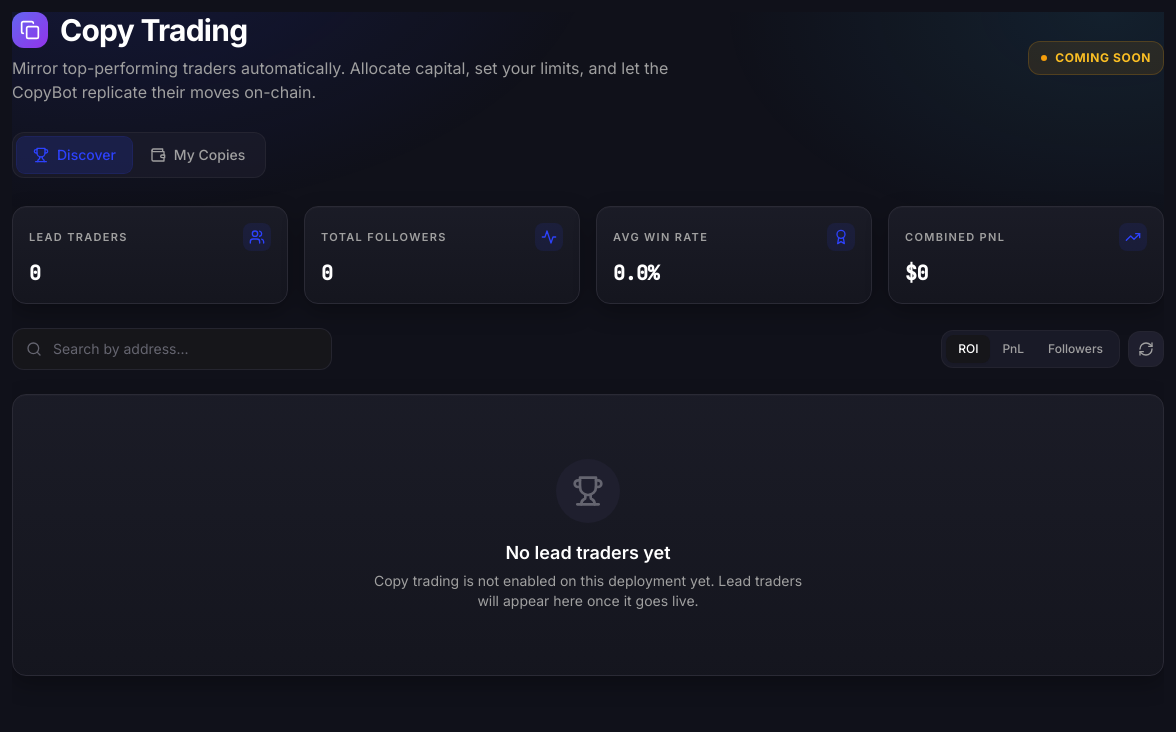
Scenario: CopyTradingPage — My Copies › renders followed traders with per-trader pnl override, fallback, and invalid date
Click the button "My Copies". click: (198, 155)
box: [134,137,261,173]
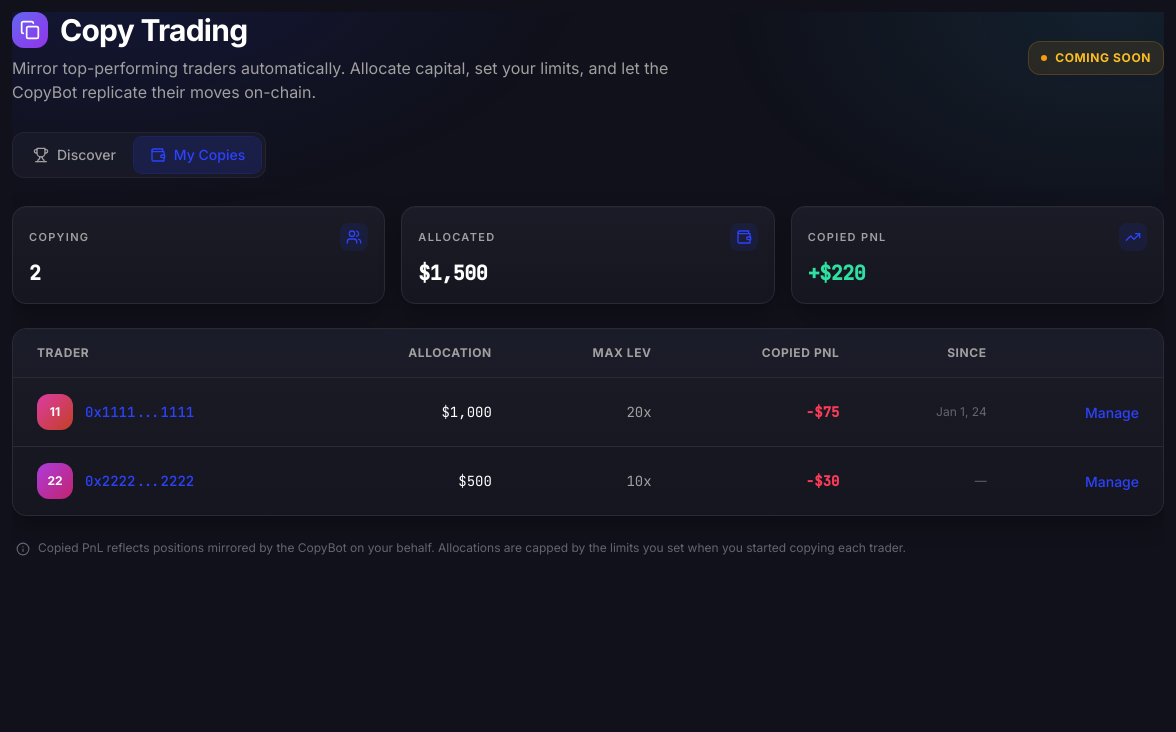
Expected: the text "0x1111...1111" is shown, [85,402,194,422]
Expected: the text "0x2222...2222" is shown, [85,471,194,491]
Expected: the text "—" is shown, [863,446,1011,515]
